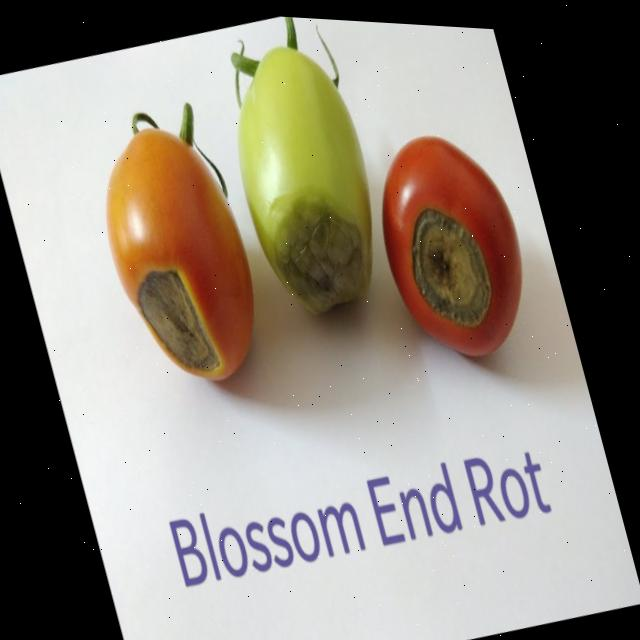damaged: (80, 88, 288, 430), (332, 105, 564, 401), (216, 23, 403, 342)
